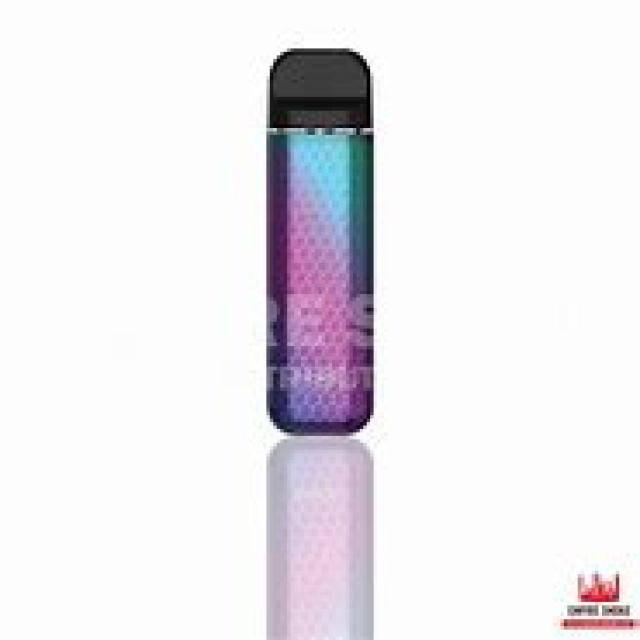Hazard: (263, 45, 374, 432)
